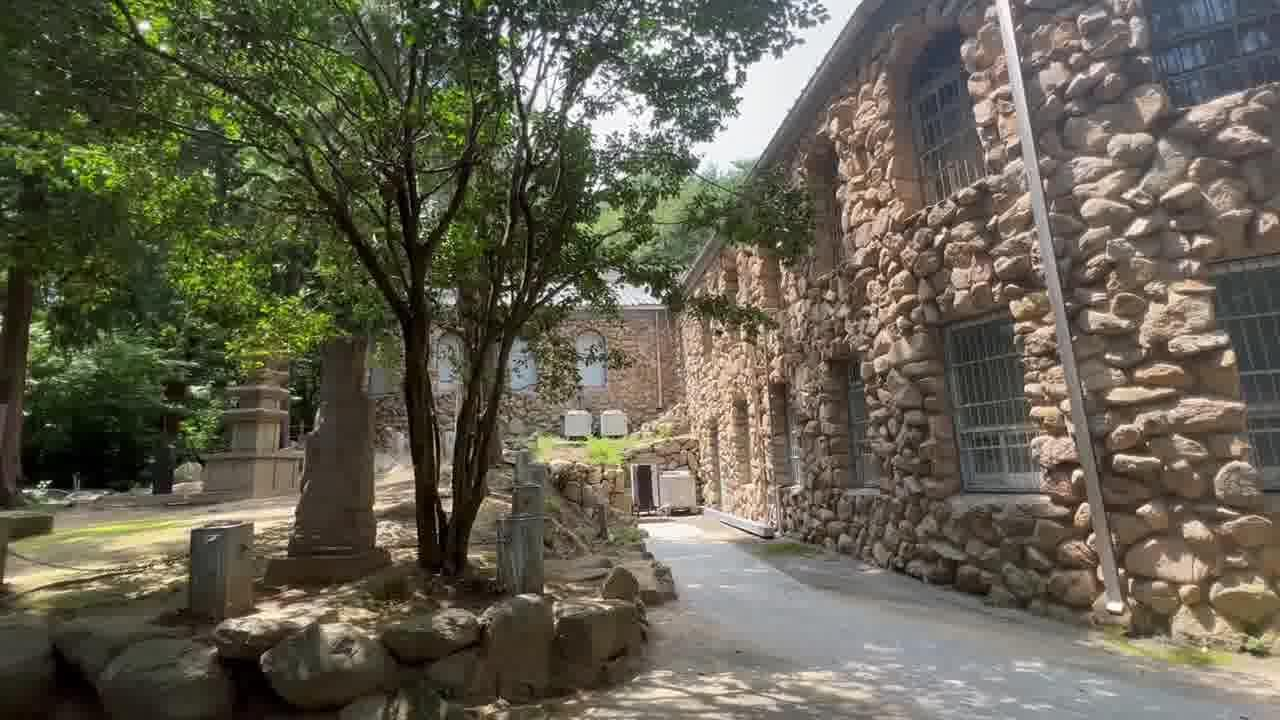building: (688, 43, 1280, 640)
